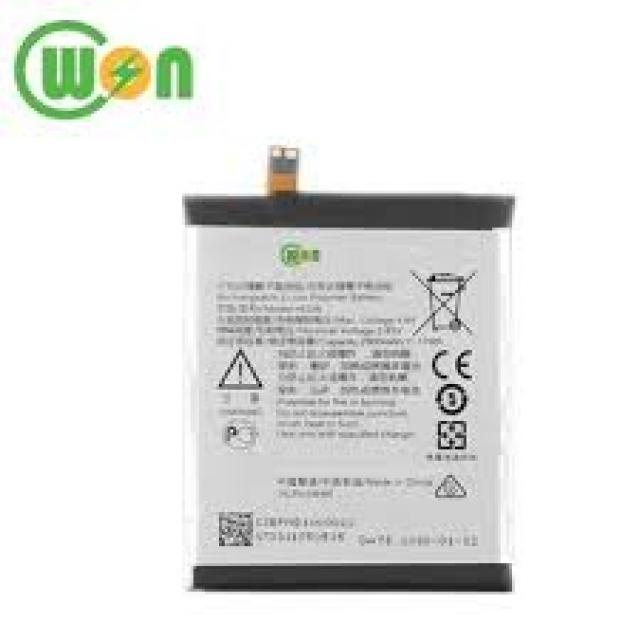non-organic waste: (180, 147, 512, 592)
